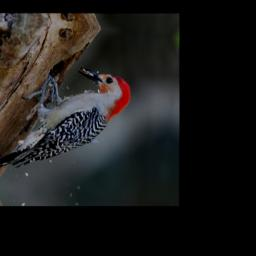Woodpecker: (0, 57, 133, 195)
